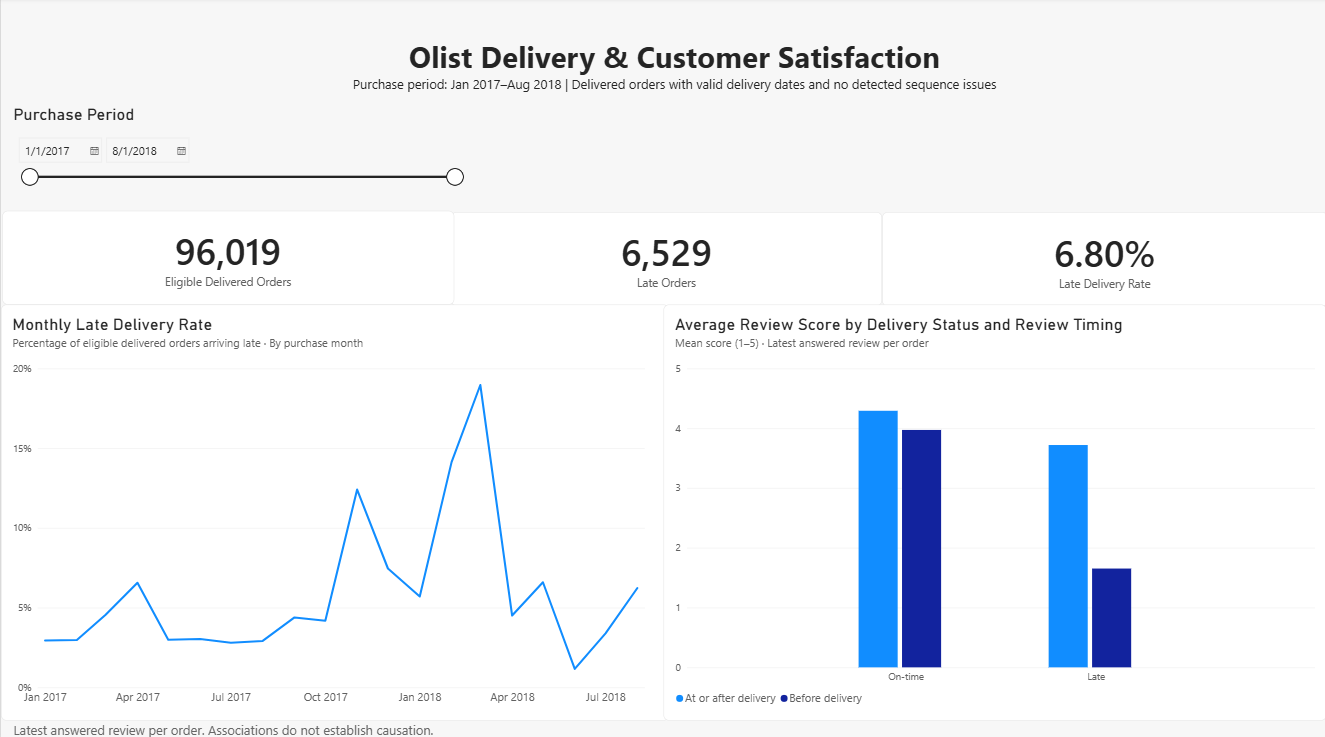

The dashboard page shown, as its layout file describes it:
{"tool":"powerbi","page":{"name":"Page 1","canvas":[1920,1080],"ordinal":0},"visuals":[{"type":"card","fields":{"Values":["analytics delivery_review_dashboard.Late Orders"]},"box":[651.5,311.3,624,136],"z":0},{"type":"card","fields":{"Values":["analytics delivery_review_dashboard.Total Orders"]},"box":[1.8,309.5,654,136],"z":1000},{"type":"card","fields":{"Values":["analytics delivery_review_dashboard.Late Delivery Rate"]},"box":[1275.6,311.1,644.4,136.7],"z":2000},{"type":"lineChart","title":"Monthly Late Delivery Rate","fields":{"Category":["analytics delivery_review_dashboard.purchase_month"],"Y":["analytics delivery_review_dashboard.Late Delivery Rate"]},"box":[0,445,967.5,602.5],"z":3000},{"type":"clusteredColumnChart","title":"Average Review Score by Delivery Status and Review Timing","fields":{"Category":["analytics delivery_review_dashboard.delivery_status"],"Series":["analytics delivery_review_dashboard.review_timing"],"Y":["analytics delivery_review_dashboard.Average Review Score"]},"box":[960,445,960,602.5],"z":4000},{"type":"slicer","title":"Purchase Period","fields":{"Values":["analytics delivery_review_dashboard.purchase_month"]},"box":[18.1,155.6,655.1,139.3],"z":5000},{"type":"textbox","box":[483.7,55.6,983.9,98.8],"z":6000},{"type":"textbox","box":[18.1,1047.8,655.1,32.6],"z":7000}]}

Visuals, with their boxes in screenshot pixels (x1, y1, x2, y2), scaled from the page's 1920x1080 canvas onto the 1325x737 screenshot:
card - analytics delivery_review_dashboard.Late Orders: box(450, 212, 880, 305)
card - analytics delivery_review_dashboard.Total Orders: box(1, 211, 453, 304)
card - analytics delivery_review_dashboard.Late Delivery Rate: box(880, 212, 1324, 306)
"Monthly Late Delivery Rate" lineChart: box(0, 304, 668, 715)
"Average Review Score by Delivery Status and Review Timing" clusteredColumnChart: box(662, 304, 1324, 715)
"Purchase Period" slicer: box(12, 106, 465, 201)
textbox: box(334, 38, 1013, 105)
textbox: box(12, 715, 465, 736)
